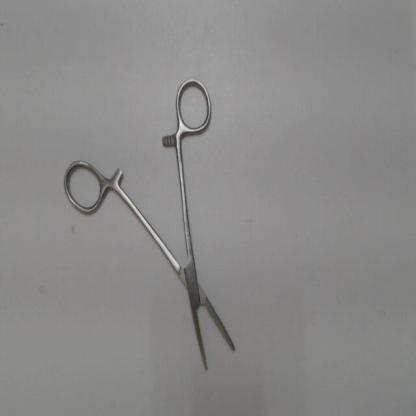Mayo Needle Holder: (59, 70, 248, 388)
